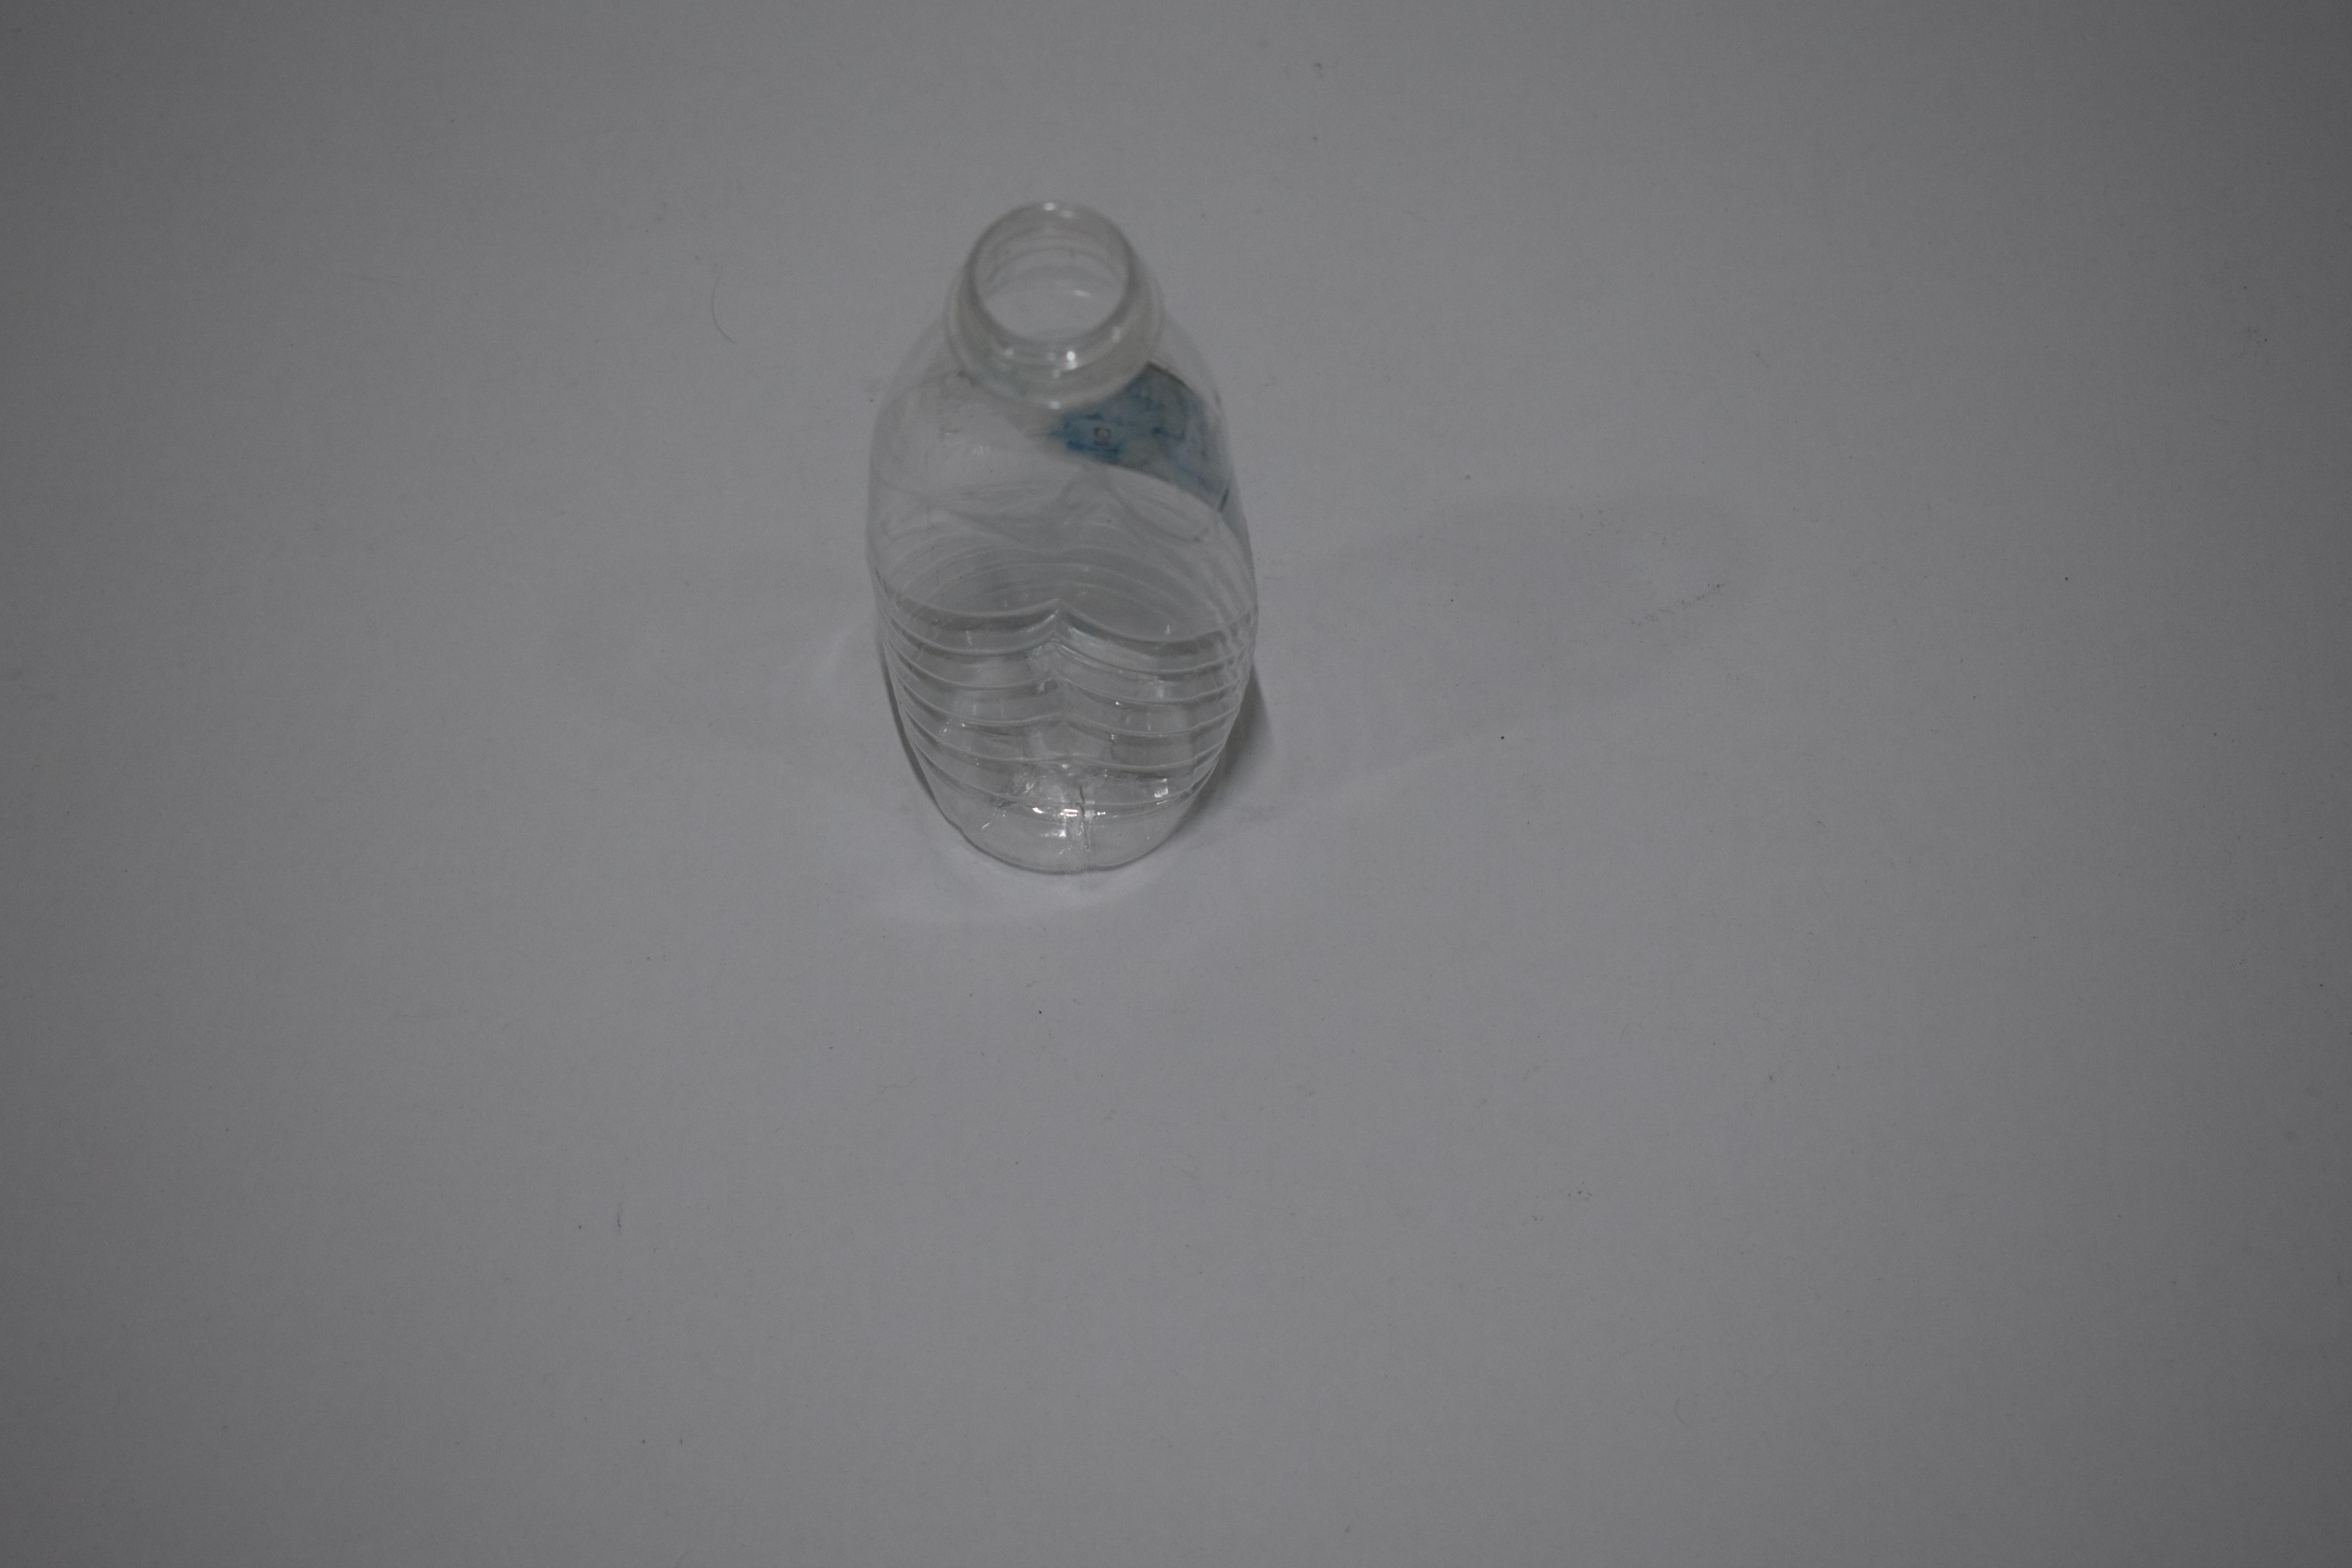bottle: (740, 219, 1148, 847)
